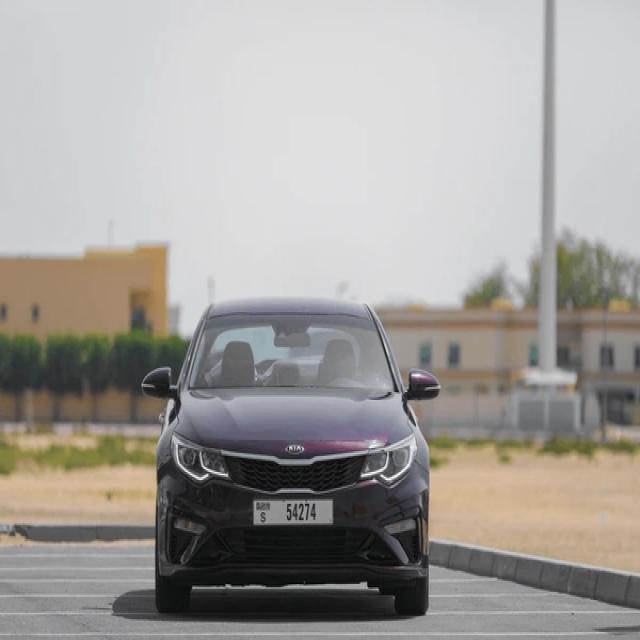kia: (277, 443, 311, 466)
